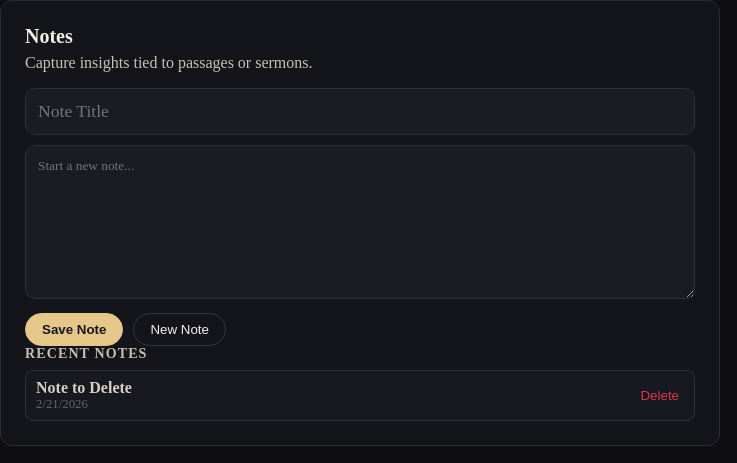
Test: NoteEditor › allows deleting a note
Expected: the text "Note to Delete" is shown, [36,379,132,397]
Click the button with aria-label "Delete note" at x=660, y=396, box [636,383,684,408]
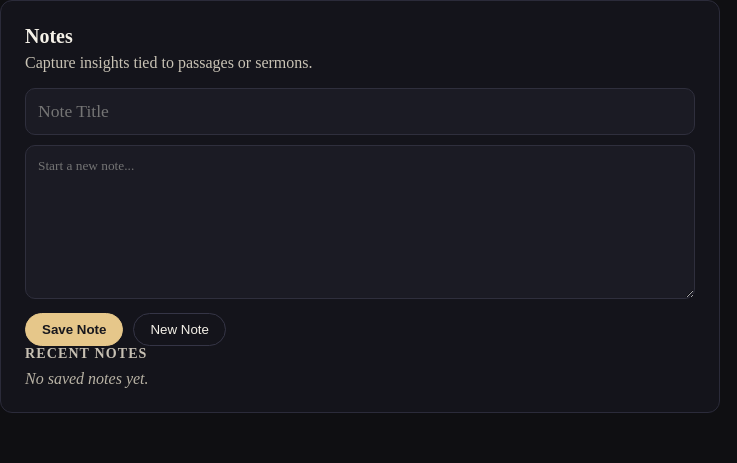
Now the text "Note to Delete" is gone
Now the text "No saved notes yet." is shown, box [25,370,148,387]
